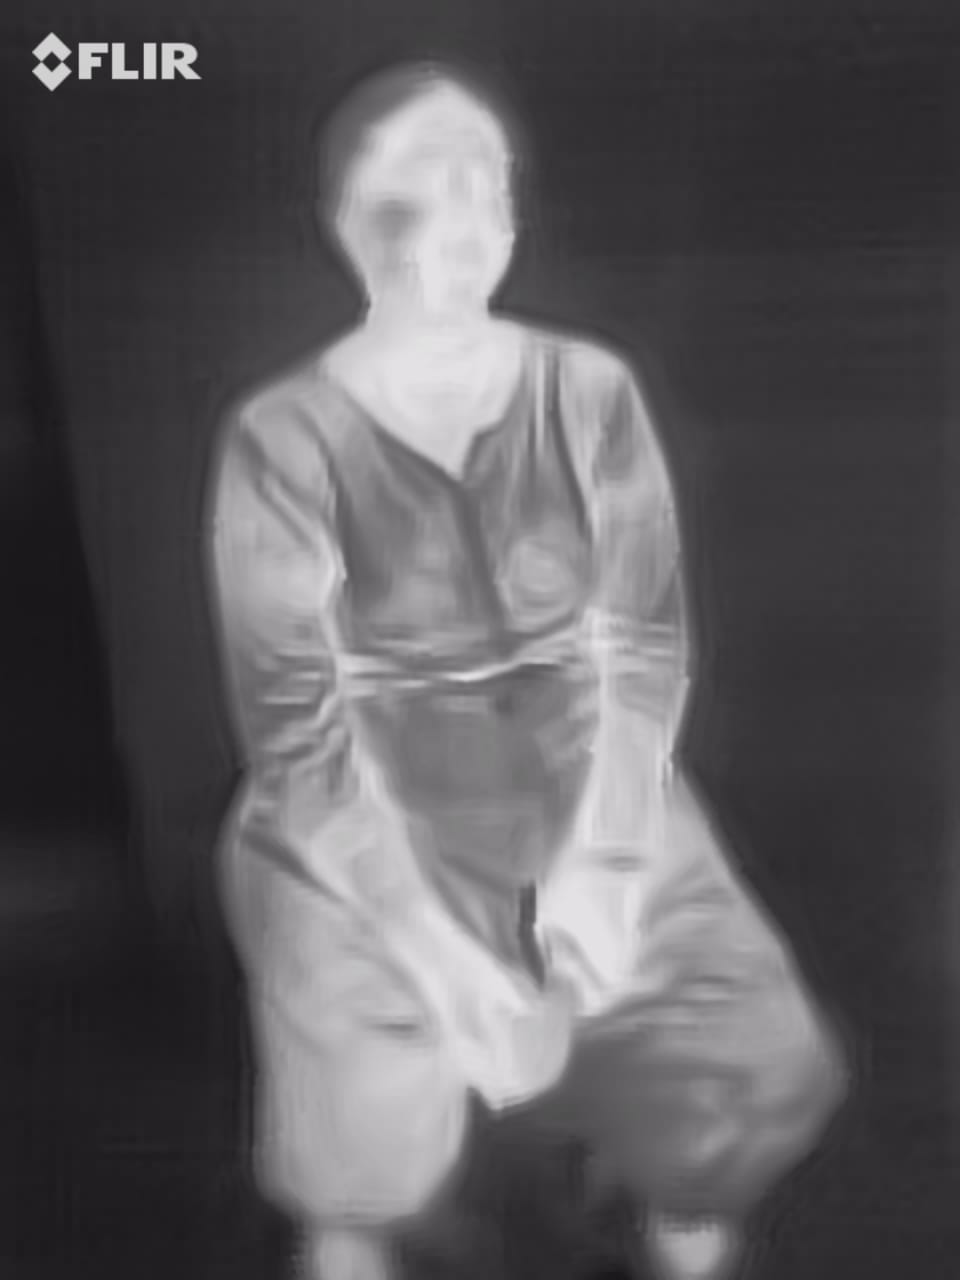head: (298, 53, 540, 337)
